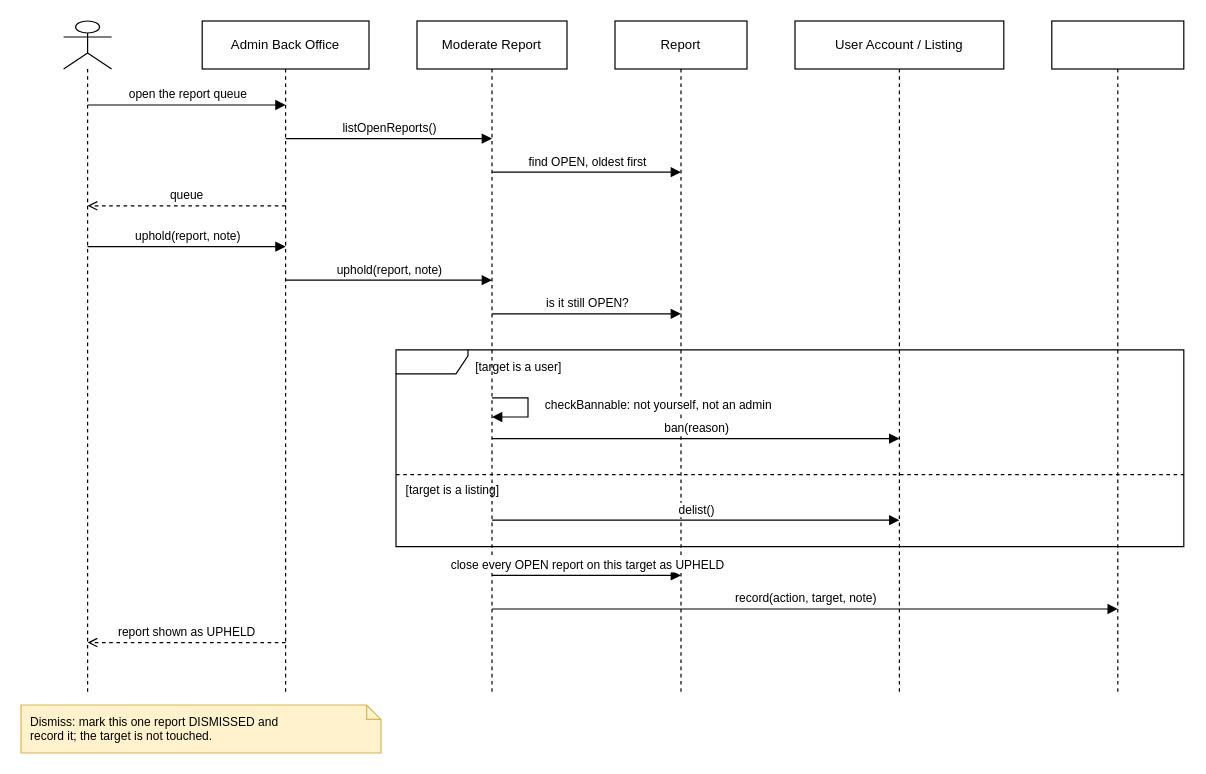
This 1206x774 diagram has some shape labels left out. The shapes that lost their labels are listed below. From the top down, each one's box as (x1, y1, x2, y2) in pixels, then its label:
(62, 20, 112, 693): Administrator
(1051, 20, 1184, 693): Audit Entry
(395, 349, 1184, 547): alt
